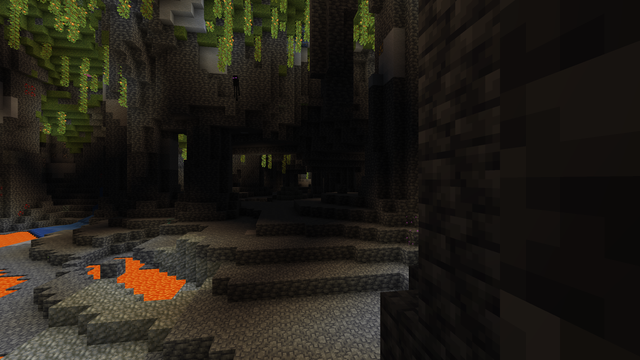endermens: (232, 74, 238, 100)
